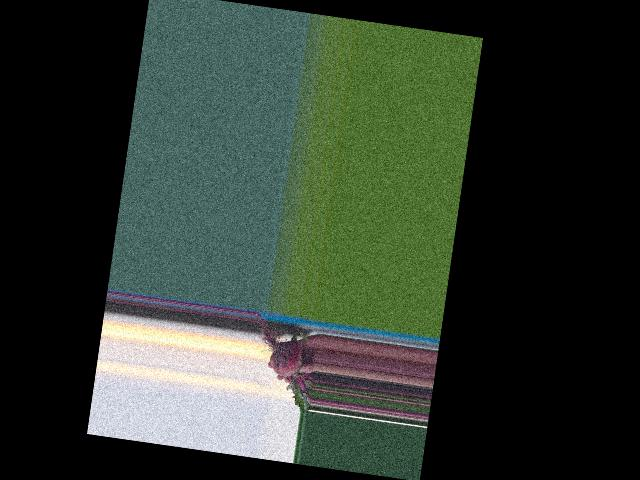beet: (245, 313, 321, 412)
